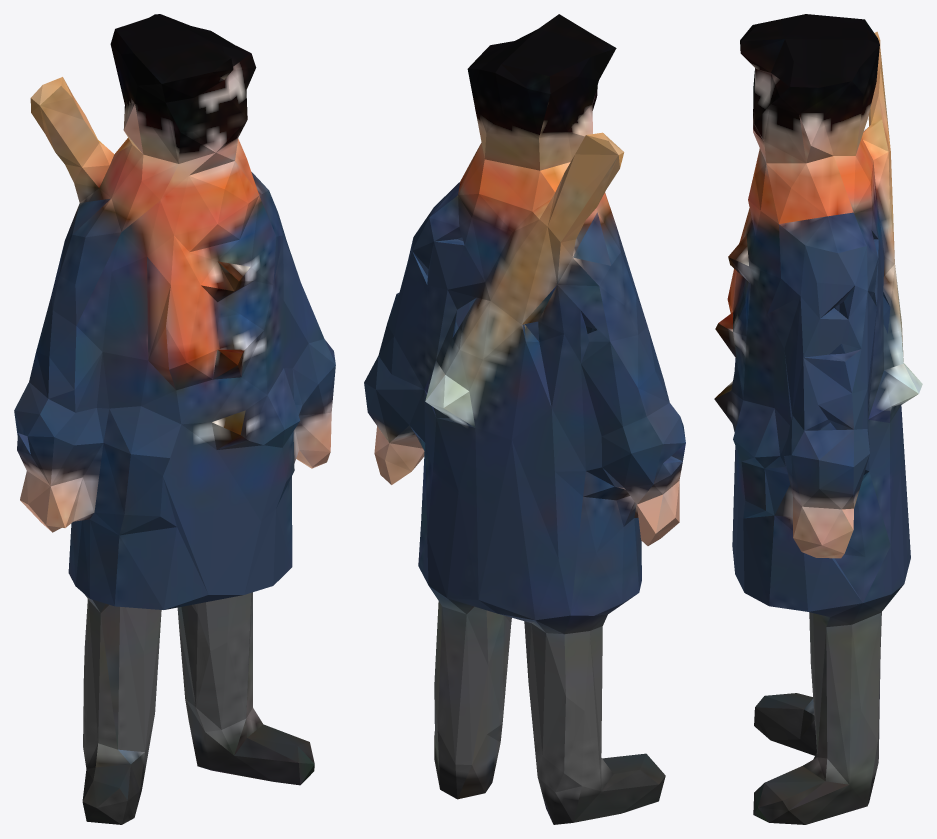
Rendered from habitant-loin.glb.
3 renders of one model, left to right at view 1: azimuth 30°, elevation 25°; view 2: azimuth 150°, elevation 25°; view 3: azimuth 270°, elevation 25°, orthographic.
Visible parts, largest first — view 1: habitant; view 2: habitant; view 3: habitant.
Boxes of the visible parts, bbox=[...] form: habitant: bbox=[14, 14, 335, 824]; habitant: bbox=[364, 14, 685, 824]; habitant: bbox=[714, 14, 922, 824].
Size of the model in its own units: 0.4284 by 1.01 by 0.2554.
1 material, 1 textured.
